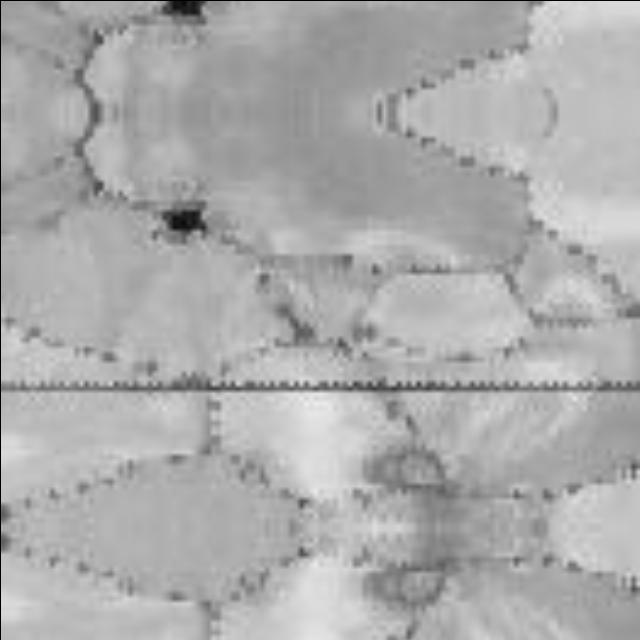good_void: (150, 181, 217, 257), (150, 0, 217, 45)
